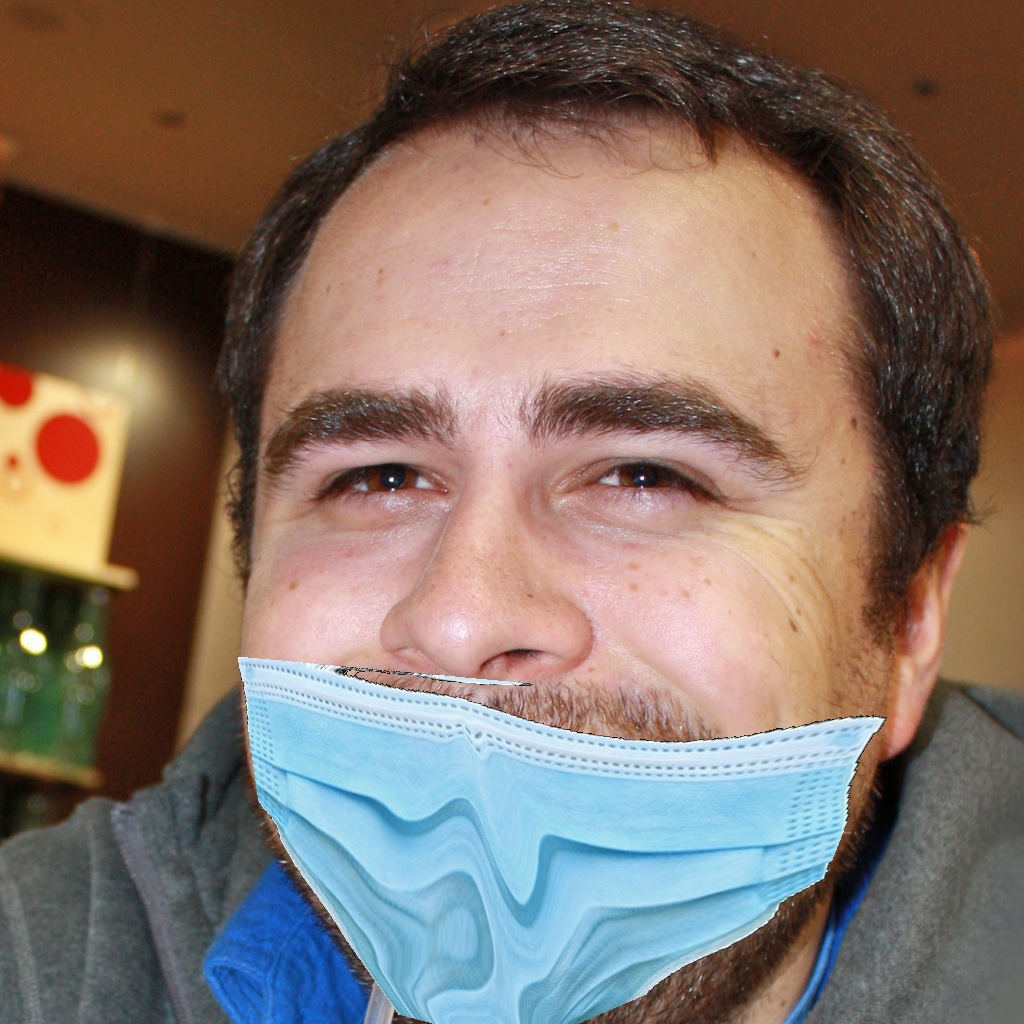Mask_Mouth_Chin: (228, 391, 894, 1024)
